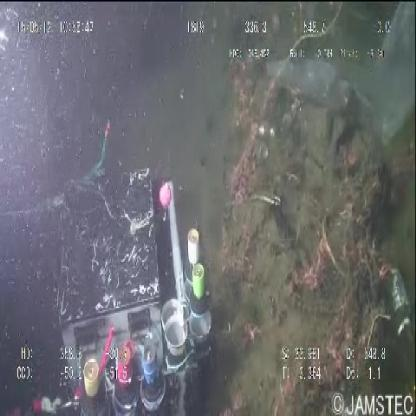Rác: (268, 3, 416, 141)
